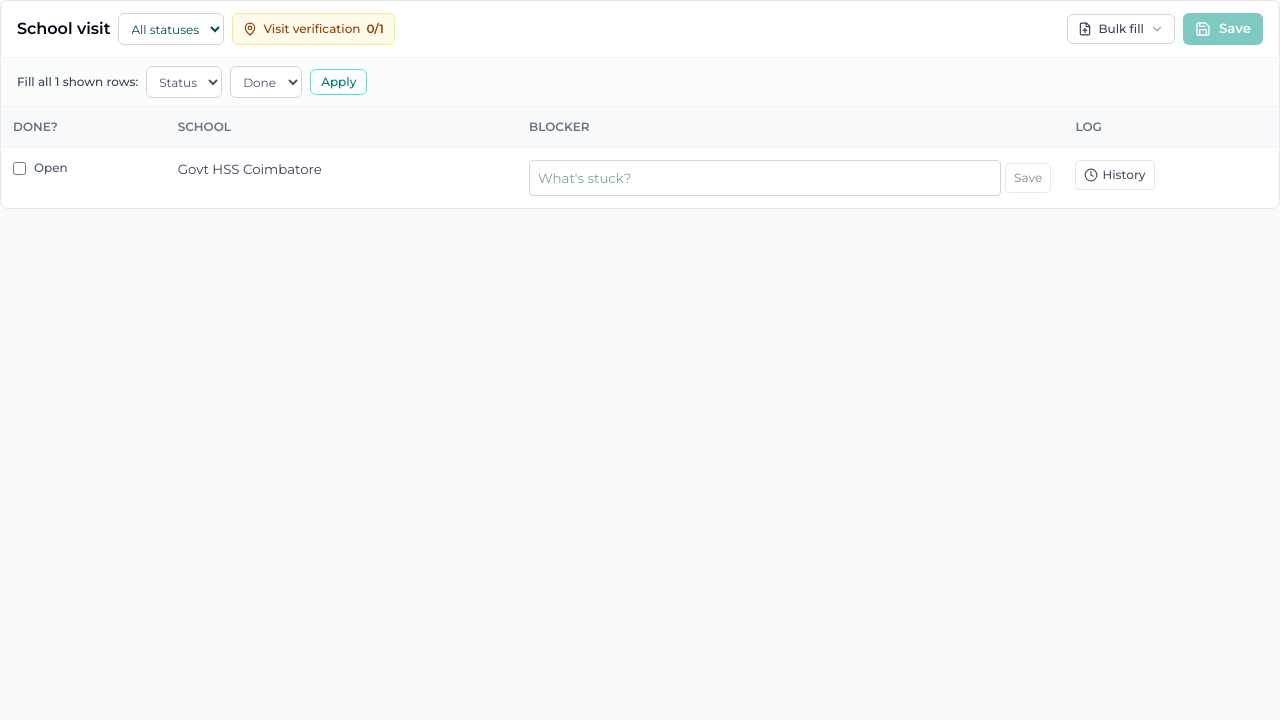
Test: tracker grid — the visit-verification gate › opens the modal instead of marking done when the school is unverified
What coordinates should you click on to do the following:
click the checkbox
I would click on:
 (20, 168)
Its box is [13, 162, 26, 174].
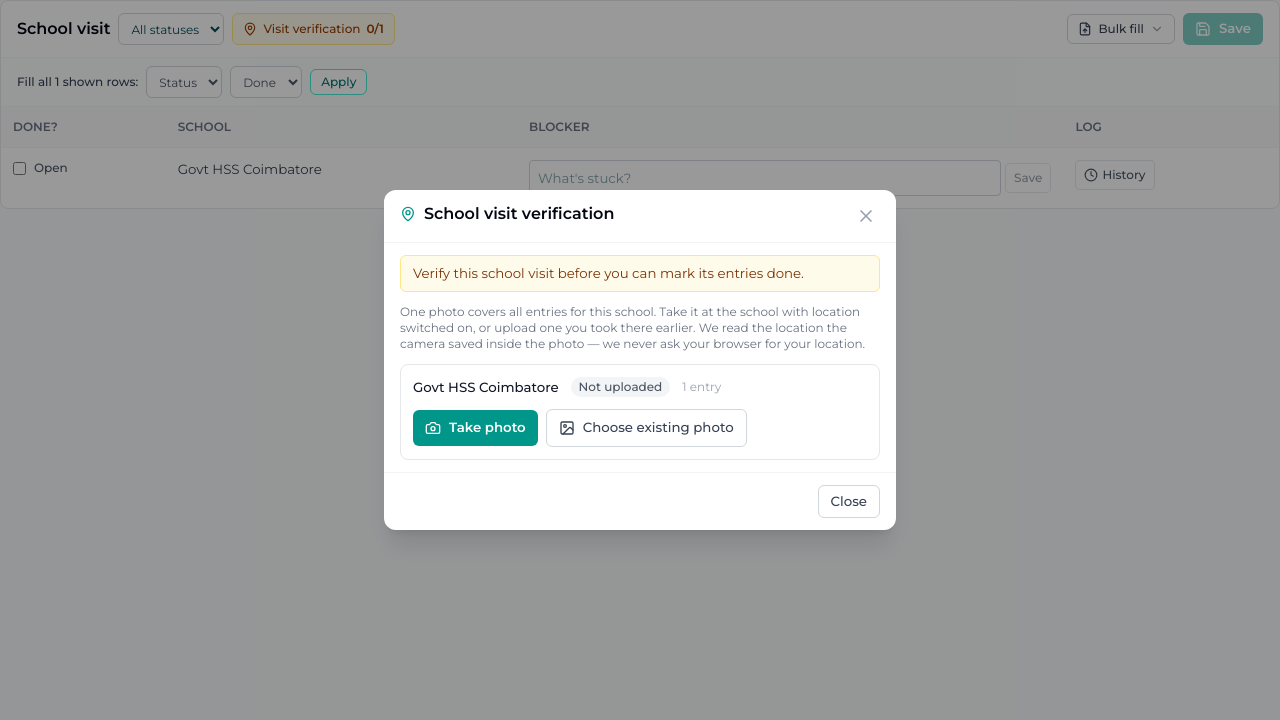
Expected: the dialog "School visit verification" is shown, [384, 190, 896, 530]
